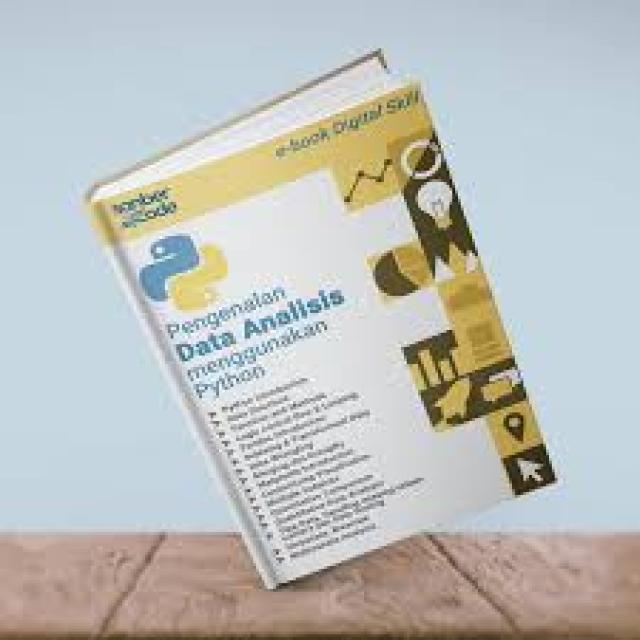book: (91, 45, 558, 591)
